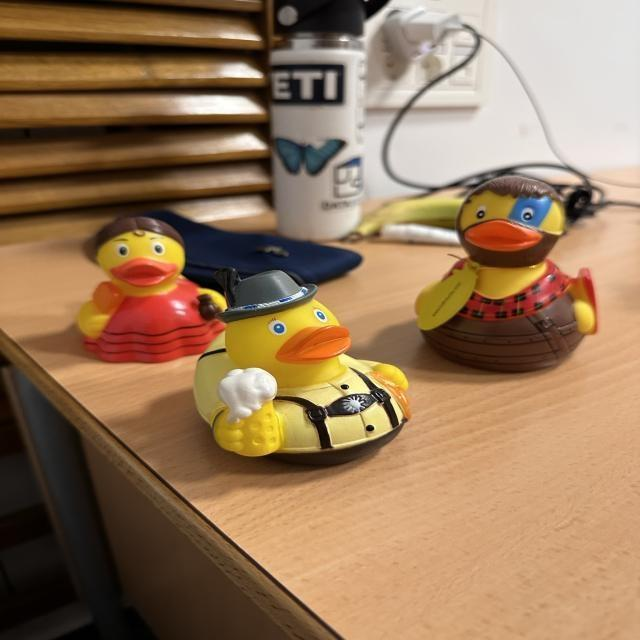rubber-duck: (193, 269, 406, 459), (421, 175, 595, 370), (75, 215, 224, 360)
